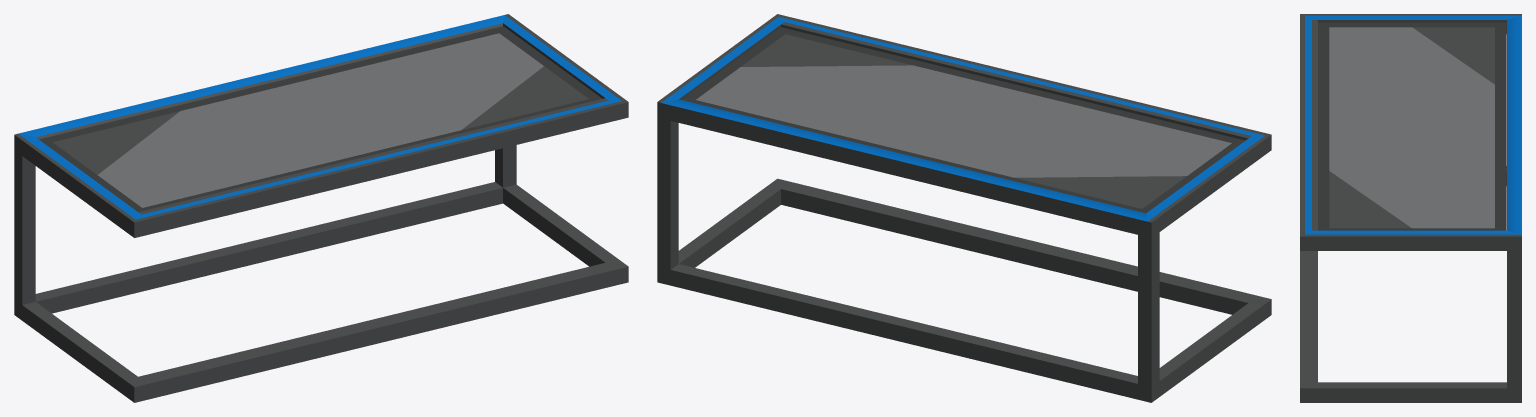
File: Desk_013.glb
The picture shows the model from 3 angles, left to right: view 1: azimuth 30°, elevation 25°; view 2: azimuth 150°, elevation 25°; view 3: azimuth 270°, elevation 25°; orthographic projection. The views are drawn at different scales.
Visible parts, largest first — view 1: Desk_013; view 2: Desk_013; view 3: Desk_013.
Boxes of the visible parts, x1,y1,x2,y2 form: Desk_013: (14,14,628,402); Desk_013: (657,14,1271,402); Desk_013: (1300,14,1521,402).
Bounding box in the file's own units: 2.42 × 0.8421 × 1.02.
2 materials, 2 textured.
